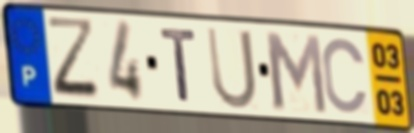4: (105, 18, 146, 107)
C: (320, 35, 371, 116)
M: (261, 28, 330, 117)
T: (158, 26, 199, 105)
U: (204, 24, 260, 113)
Z: (44, 14, 104, 103)
